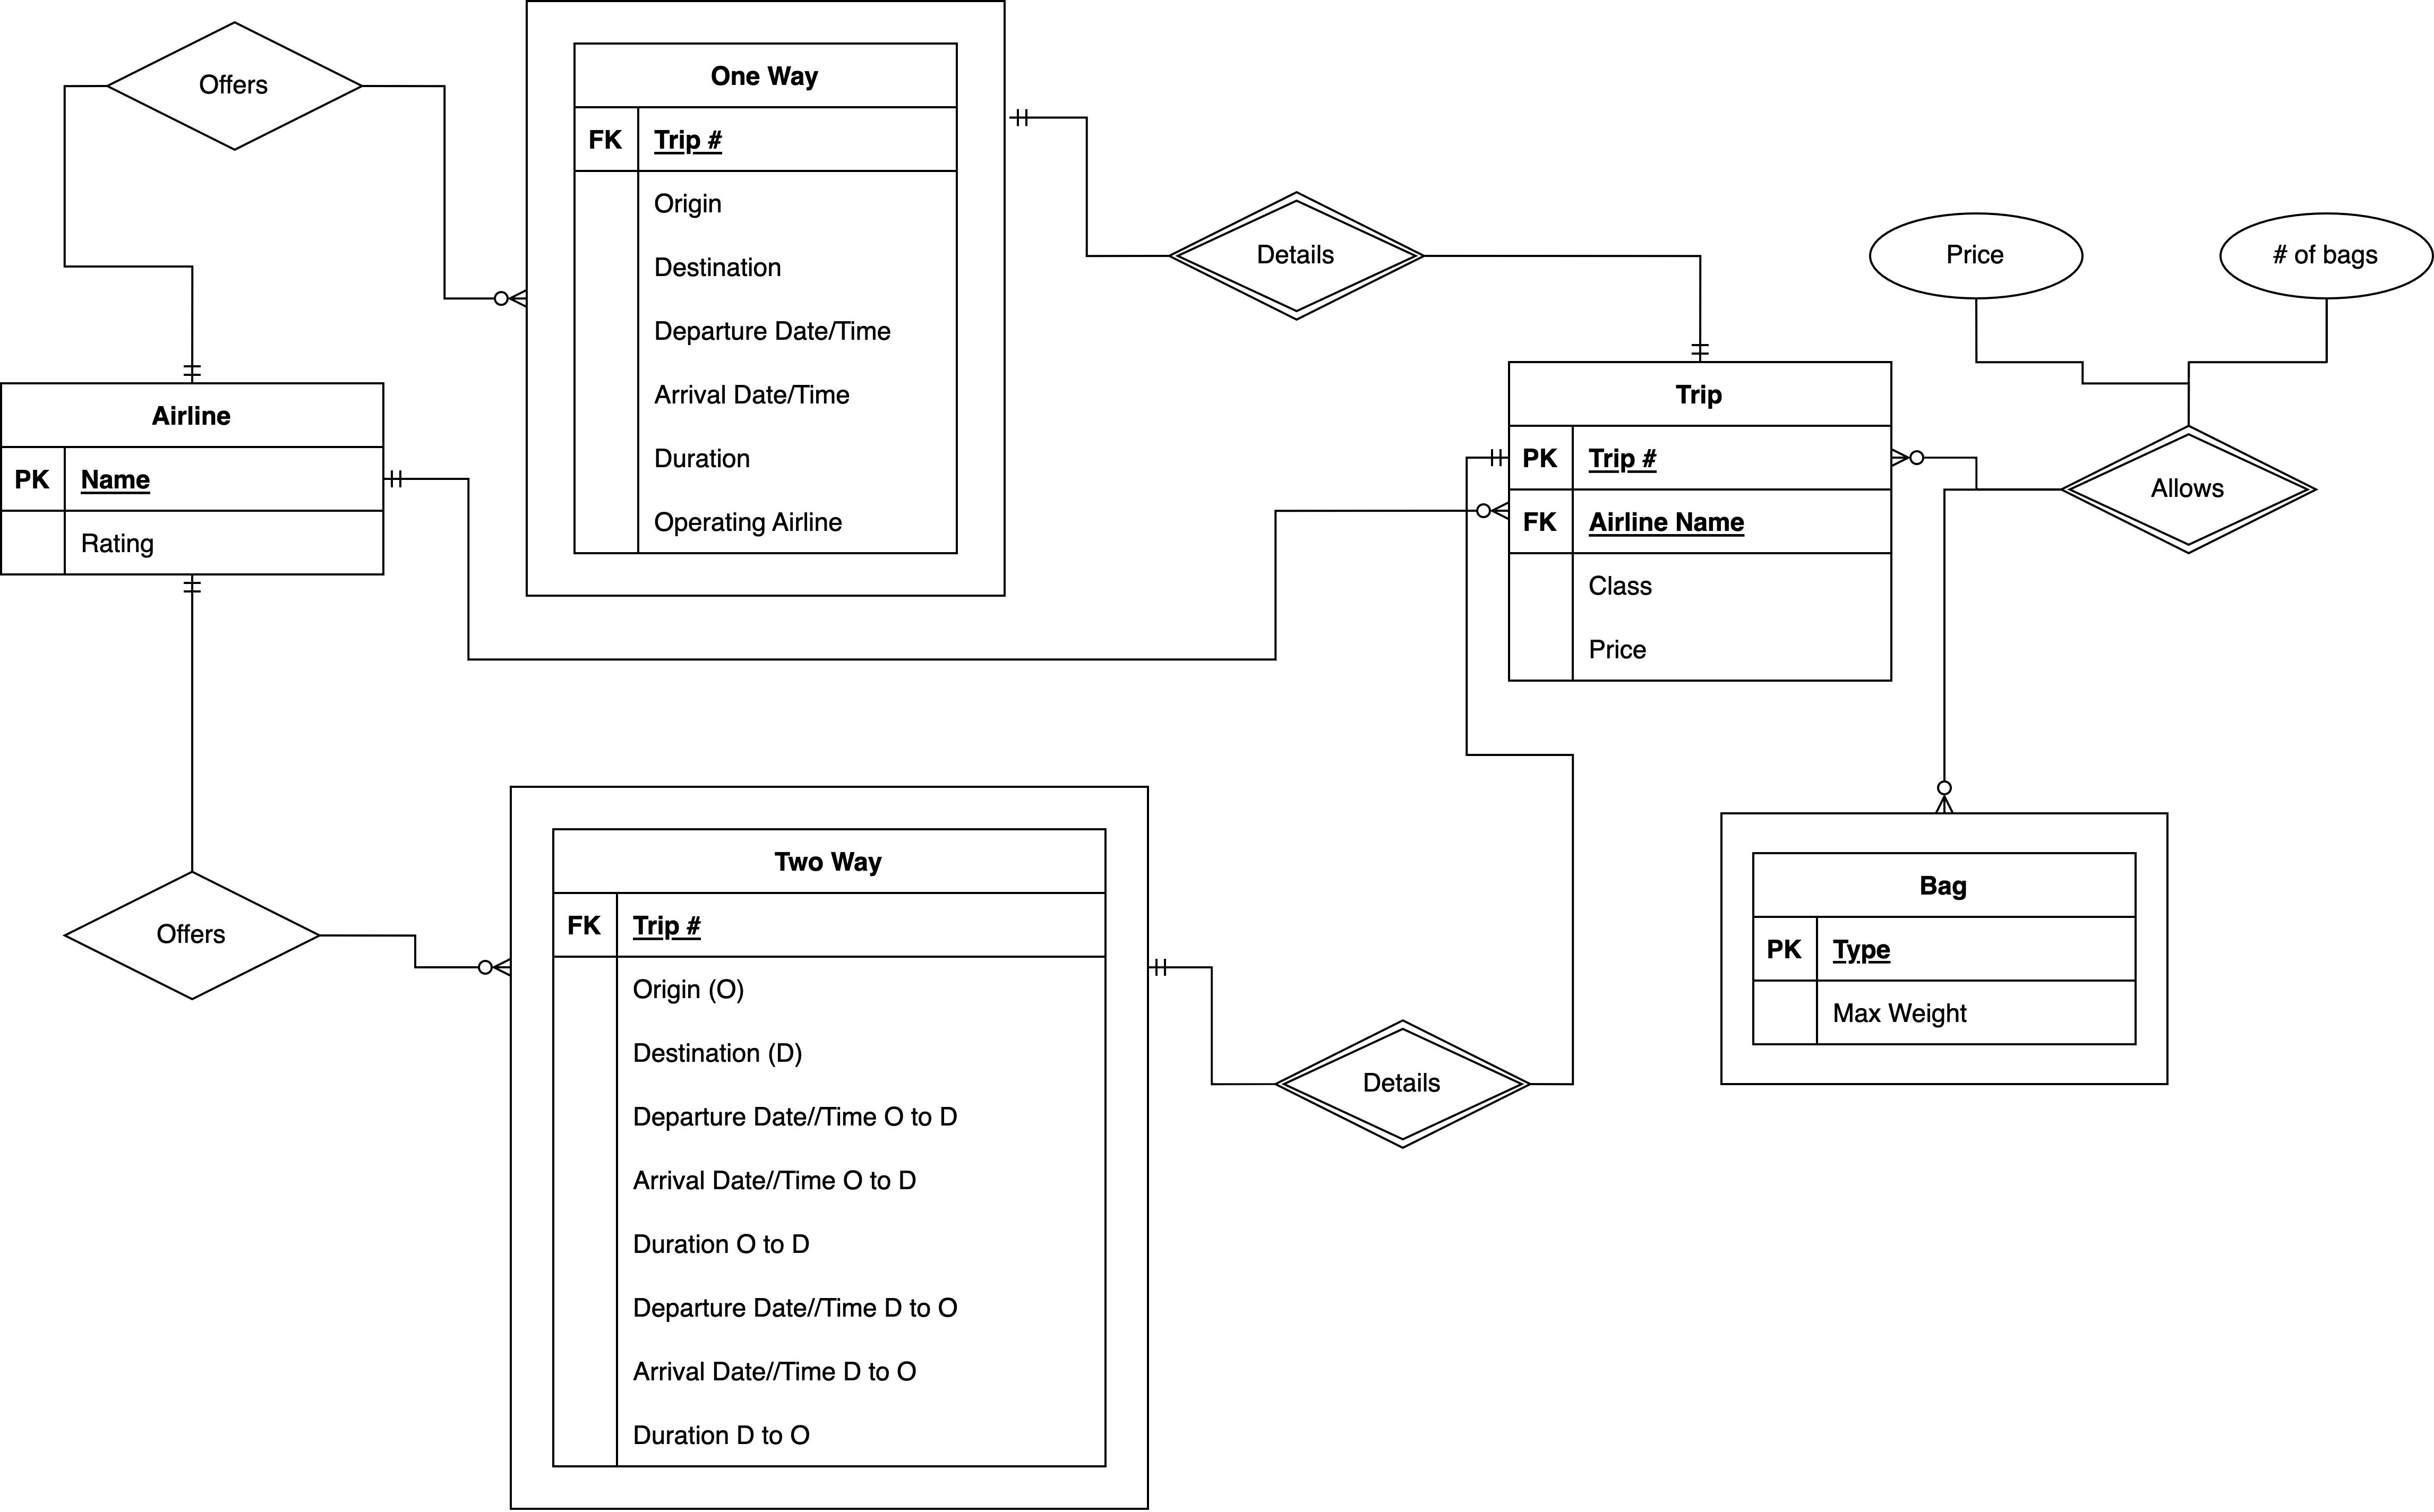attribute: (2214, 207, 2434, 303), (1866, 213, 2084, 298)
entity: (1507, 361, 1892, 685), (0, 383, 387, 584)
relationship: (106, 21, 362, 148), (64, 876, 326, 1000)
weakentity: (505, 782, 1153, 1512), (523, 0, 1014, 599), (1718, 808, 2171, 1089)
weakrelationship: (1169, 193, 1422, 324), (1277, 1023, 1531, 1150), (2065, 429, 2317, 556)
